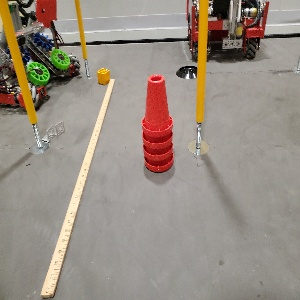Red_4: (137, 69, 177, 179)
